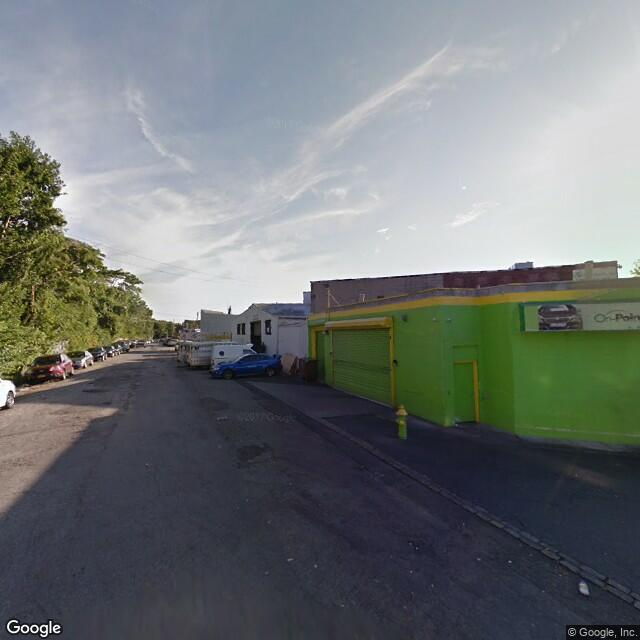litter: (566, 573, 608, 604)
